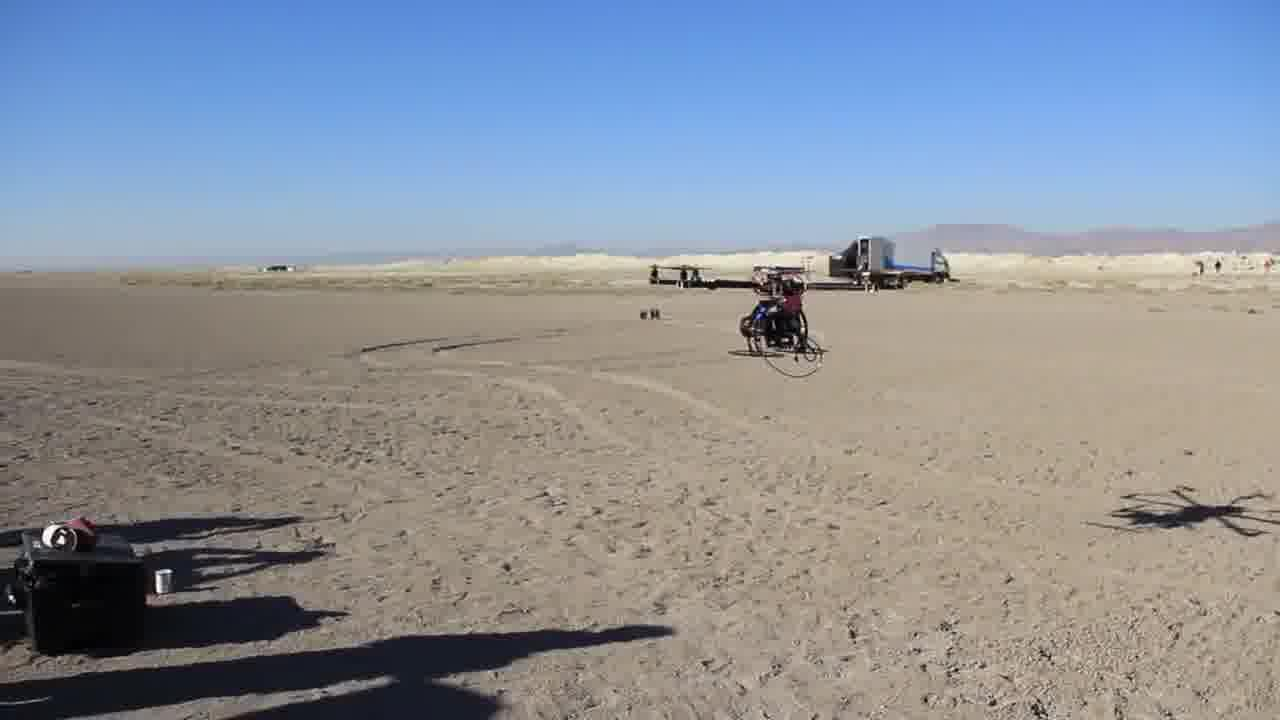drone: (602, 235, 854, 378)
